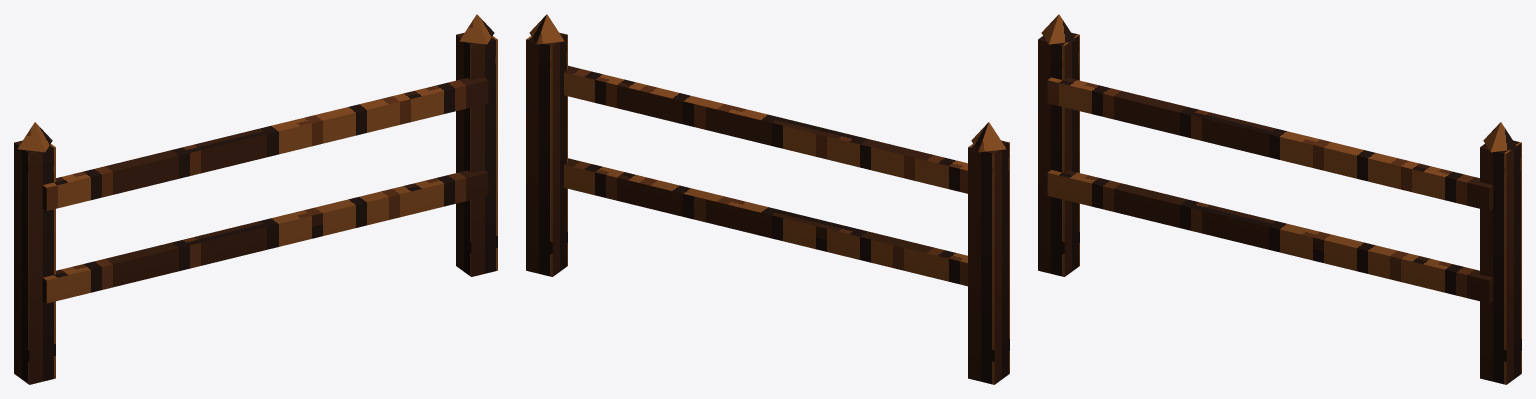
Rendered from fence.glb.
The picture shows the model from 3 angles, left to right: view 1: azimuth 30°, elevation 25°; view 2: azimuth 150°, elevation 25°; view 3: azimuth 330°, elevation 25°; orthographic projection.
Visible parts, largest first — view 1: fence; view 2: fence; view 3: fence.
Part boxes in pixels (x1,y1,x2,y2): fence: (14,14,497,384); fence: (526,14,1009,384); fence: (1038,14,1521,384).
Bounding box in the file's own units: 2.16 × 1.1 × 0.17.
Materials: 1 (1 with a texture image).
